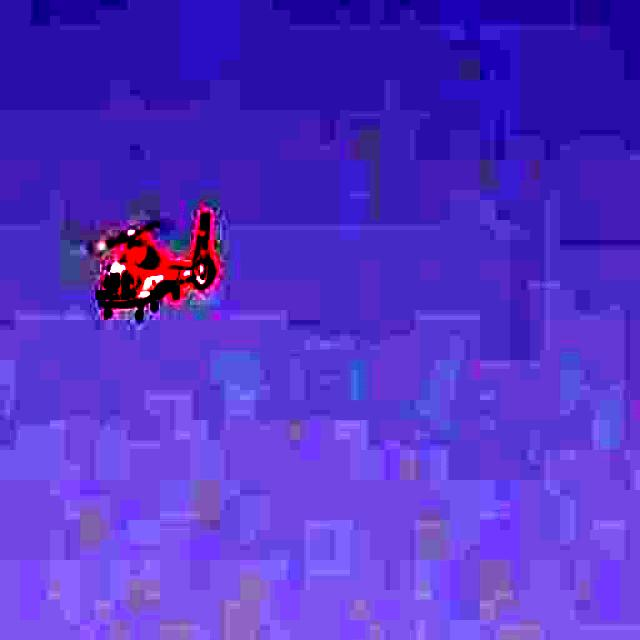drone: (45, 168, 281, 348)
